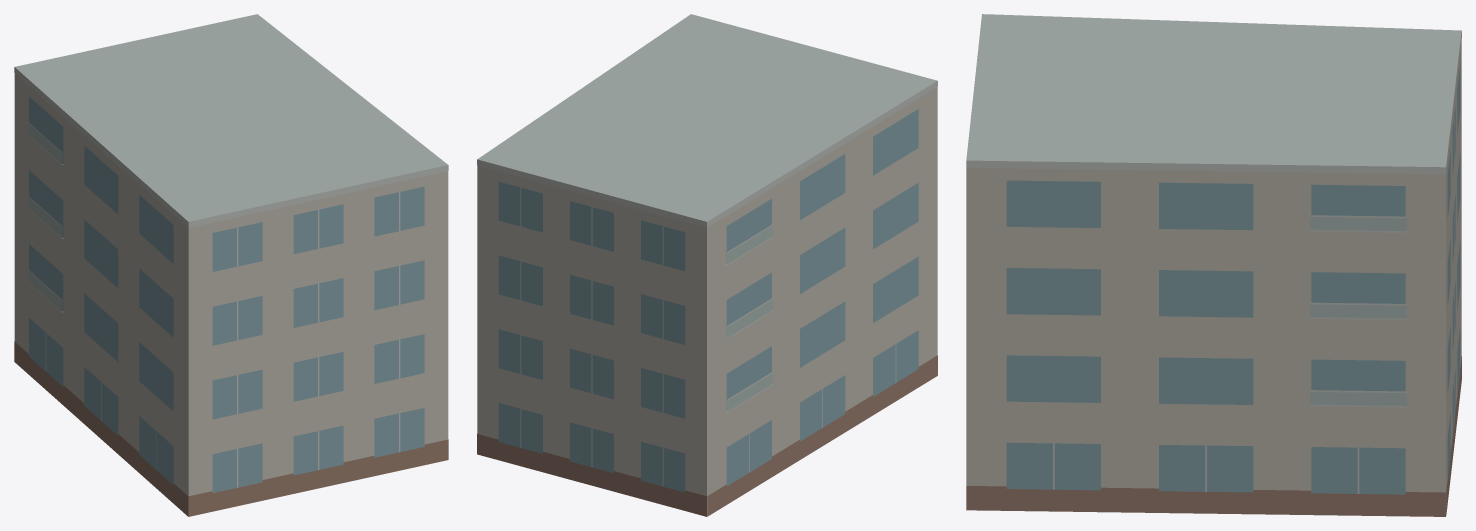
Rendered from survey-upis-32548061.glb.
3 renders of one model, left to right at view 1: azimuth 30°, elevation 25°; view 2: azimuth 150°, elevation 25°; view 3: azimuth 270°, elevation 25°, orthographic. The views are drawn at different scales.
Parts seen in each view (by area): view 1: survey-upis-32548061.tmp; view 2: survey-upis-32548061.tmp; view 3: survey-upis-32548061.tmp.
Part boxes in pixels (x1=…): survey-upis-32548061.tmp: x1=14, y1=14, x2=448, y2=516; survey-upis-32548061.tmp: x1=477, y1=14, x2=937, y2=516; survey-upis-32548061.tmp: x1=966, y1=14, x2=1461, y2=516.
Bounding box in the file's own units: 11.12 × 11.82 × 15.2.
